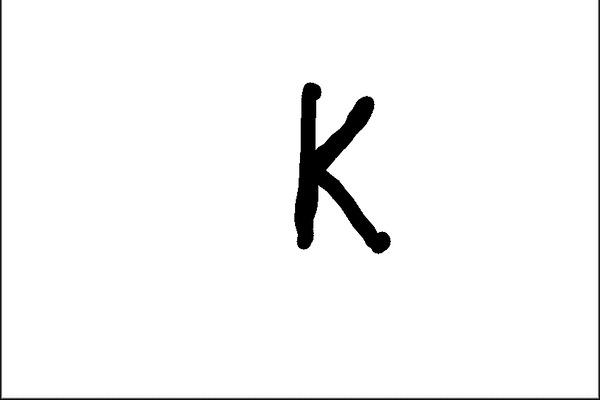K: (284, 77, 394, 256)
